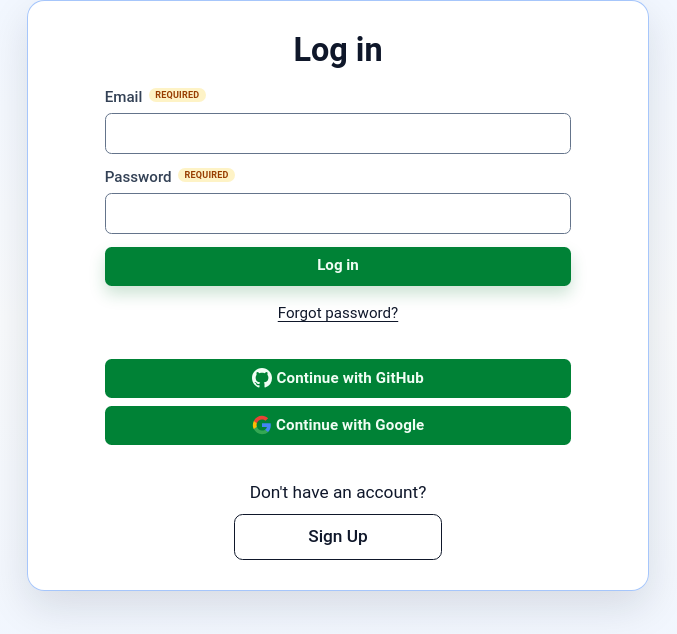
Scenario: Google login › starts the Google social sign-in and shows loading
Click the button "Continue with Google" at [338, 426], box [105,406,571,445]
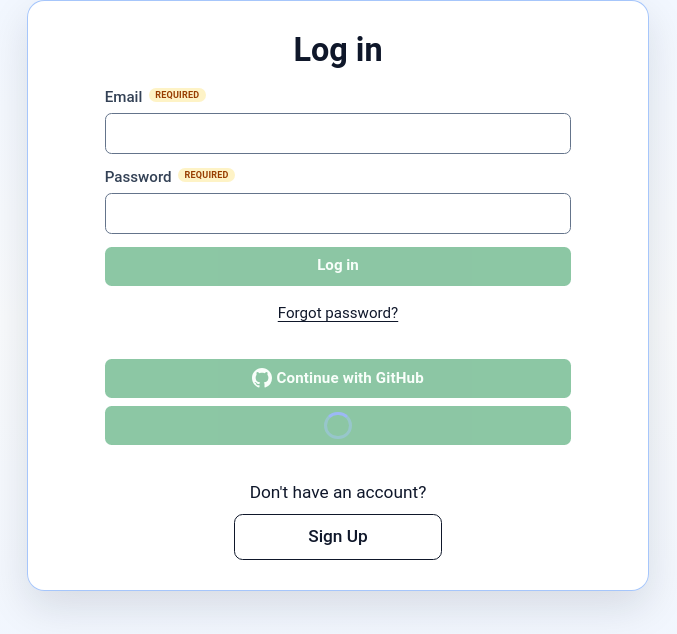
expect the button named "Continue with Google" is disabled: met, box [105,406,571,445]
expect the message named "Loading" is shown: met, box [324,412,404,444]
